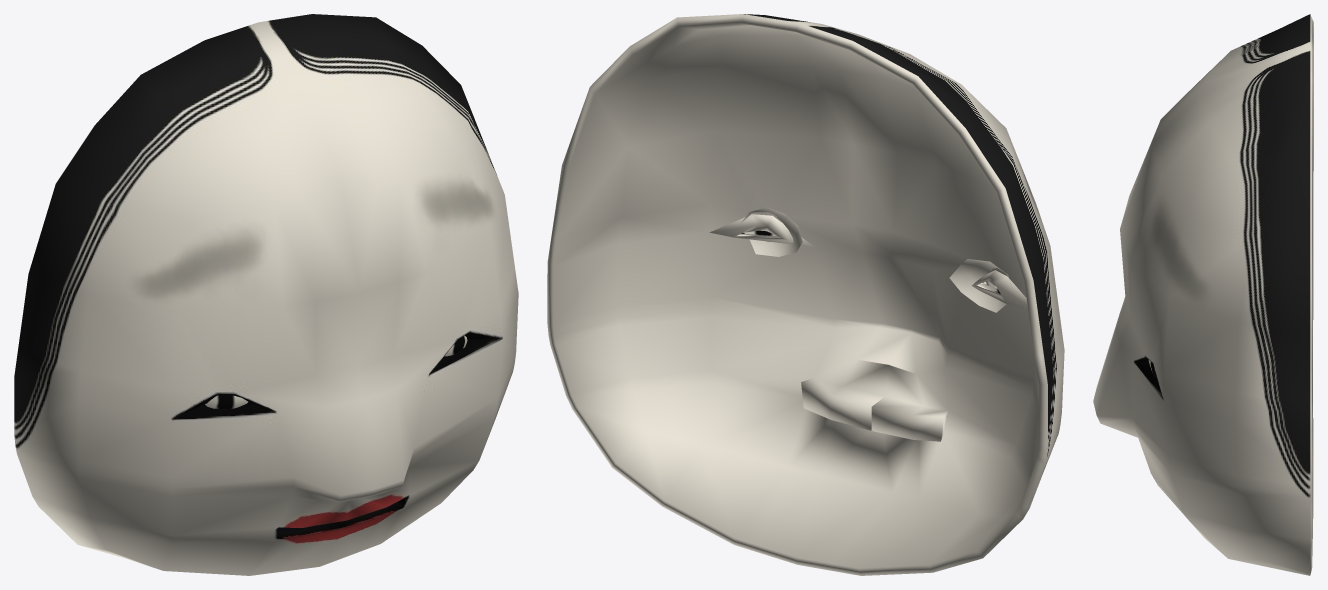
The model's file is Noumen_1.fbx.
3 views of the same model, side by side, from view 1: azimuth 30°, elevation 25°; view 2: azimuth 150°, elevation 25°; view 3: azimuth 270°, elevation 25° (orthographic). The views are drawn at different scales.
Parts seen in each view (by area): view 1: Noumen; view 2: Noumen; view 3: Noumen.
Boxes of the visible parts, left/top/right/bottom form: Noumen: left=14, top=14, right=518, bottom=575; Noumen: left=547, top=14, right=1064, bottom=575; Noumen: left=1093, top=14, right=1313, bottom=575.
Bounding box in the file's own units: 59.69 × 61.78 × 25.04.
Materials: 1 (1 with a texture image).
